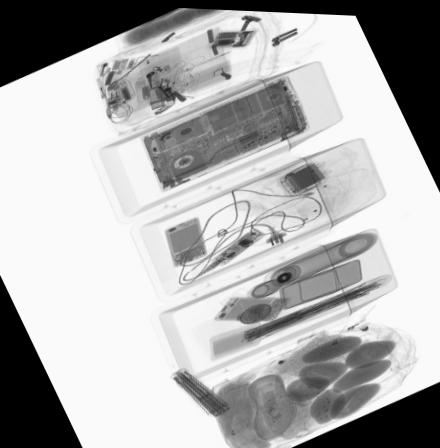Knife: (152, 102, 176, 113)
